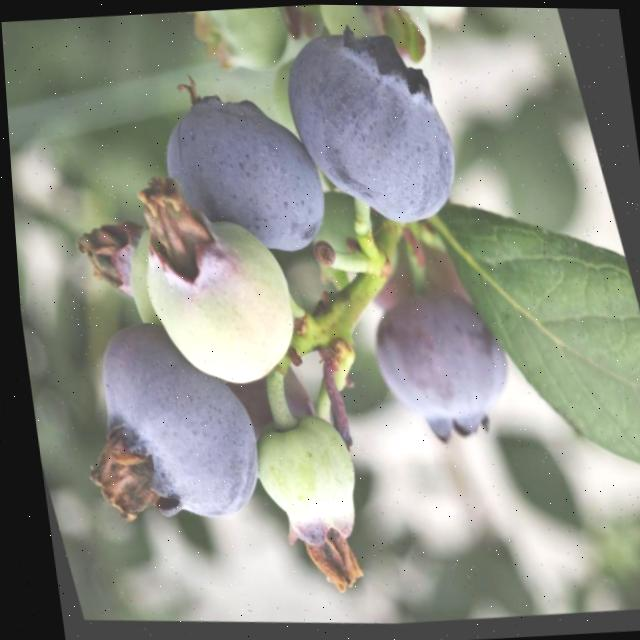RipeBlueBerry: (63, 310, 277, 547), (272, 8, 480, 245), (147, 77, 344, 273)
Semi-RipeBlueBerry: (124, 194, 319, 410)
